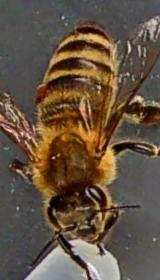varroa_mite: (29, 74, 56, 108)
